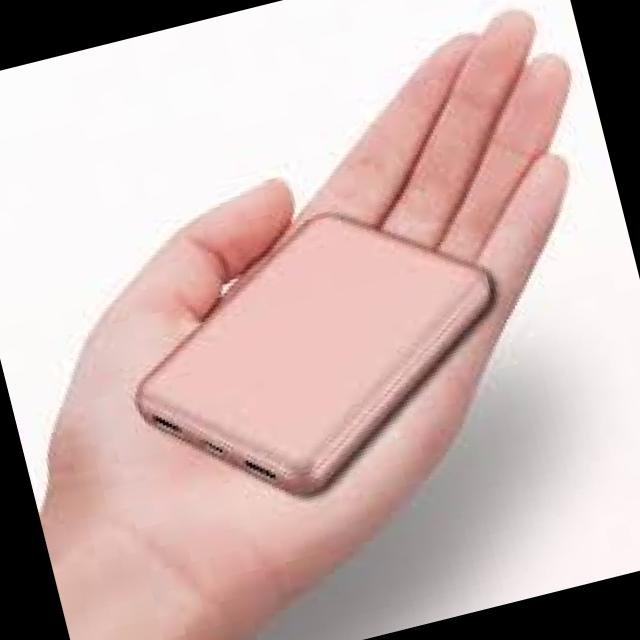portable-charger: (104, 172, 542, 538)
